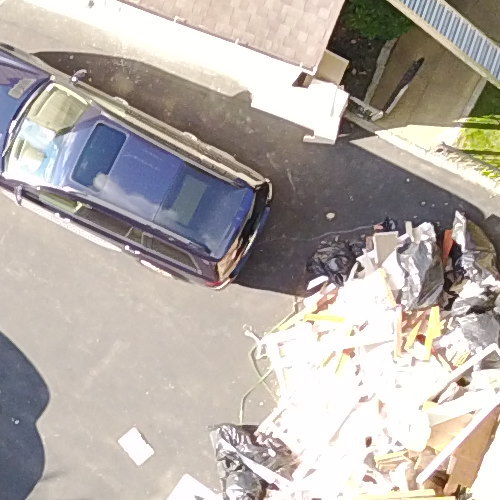clutter: (199, 181, 496, 500)
larvae: (201, 186, 495, 499), (198, 417, 314, 500), (297, 235, 367, 295)
trash: (201, 460, 278, 500)
